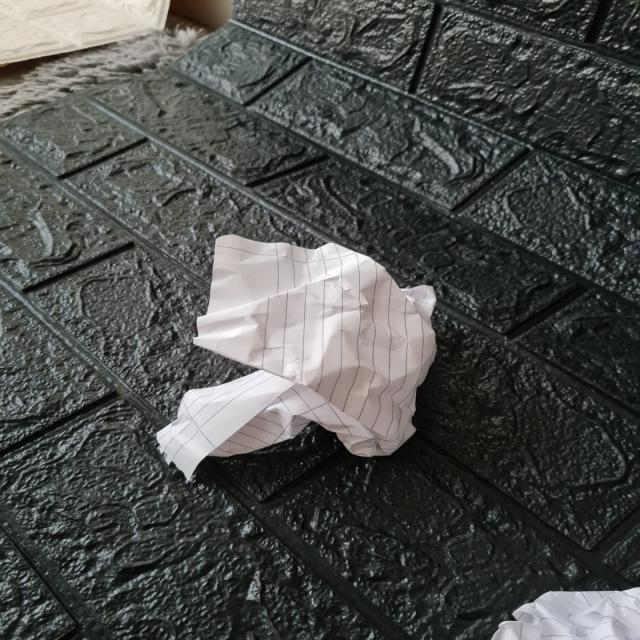Paper: (154, 238, 430, 481)
